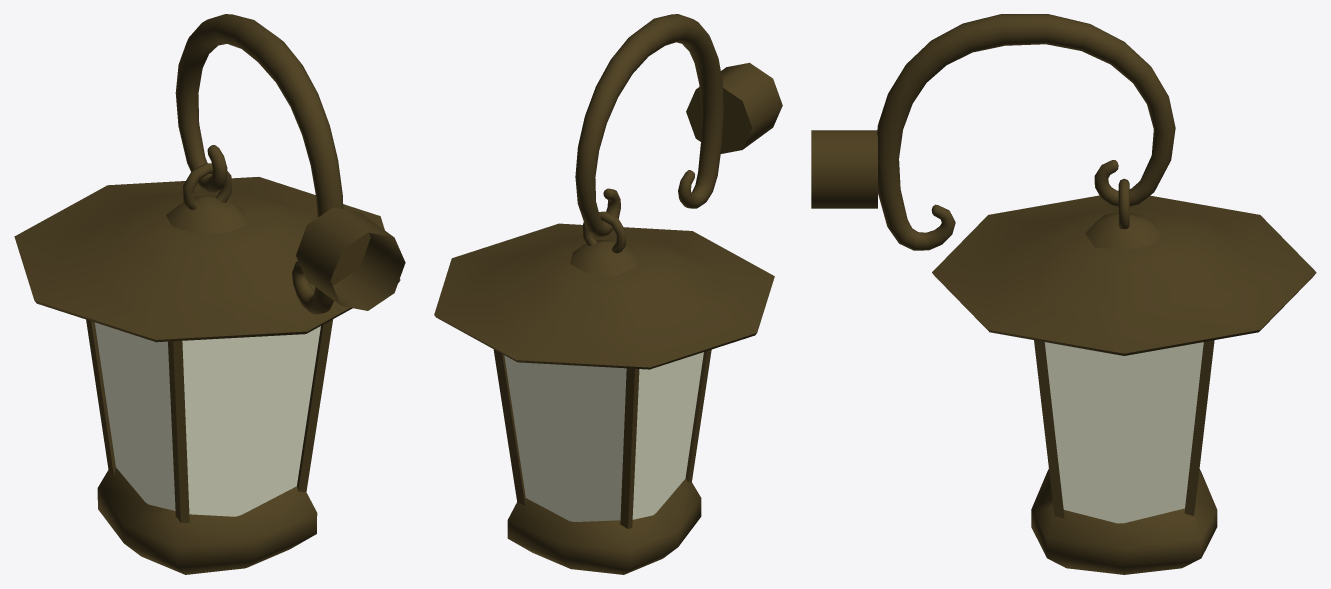
The model's file is lamp.obj.
3 views of the same model, side by side, from view 1: azimuth 30°, elevation 25°; view 2: azimuth 150°, elevation 25°; view 3: azimuth 270°, elevation 25° (orthographic). The views are drawn at different scales.
Visible parts, largest first — view 1: Lamp_Metall.004, Lamp_Material.002; view 2: Lamp_Metall.004, Lamp_Material.002; view 3: Lamp_Metall.004, Lamp_Material.002.
Part boxes in pixels (x1,y1,x2,y2): Lamp_Metall.004: (14,14,405,574); Lamp_Material.002: (95,322,320,516); Lamp_Metall.004: (434,14,782,574); Lamp_Material.002: (504,352,703,521); Lamp_Metall.004: (811,14,1316,574); Lamp_Material.002: (1044,342,1203,523).
Bounding box in the file's own units: 0.503 × 0.7815 × 0.6606.
